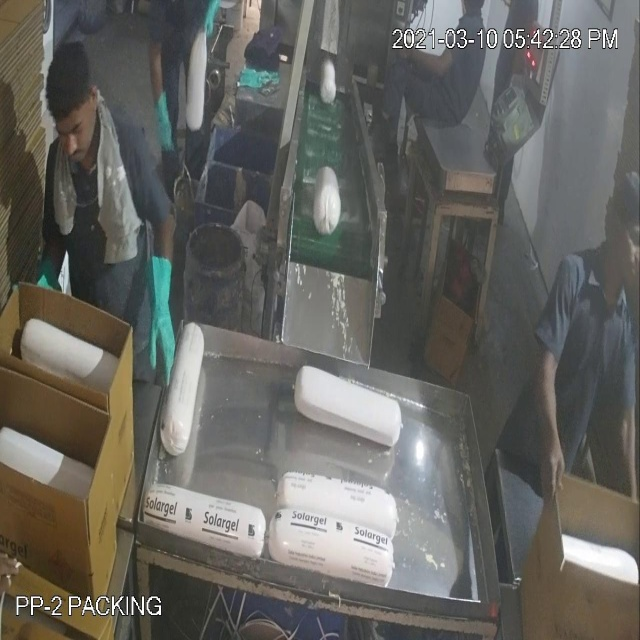Guantes: (136, 236, 186, 420)
Sin_guantes: (520, 323, 576, 511), (616, 376, 640, 520), (393, 41, 469, 85)
